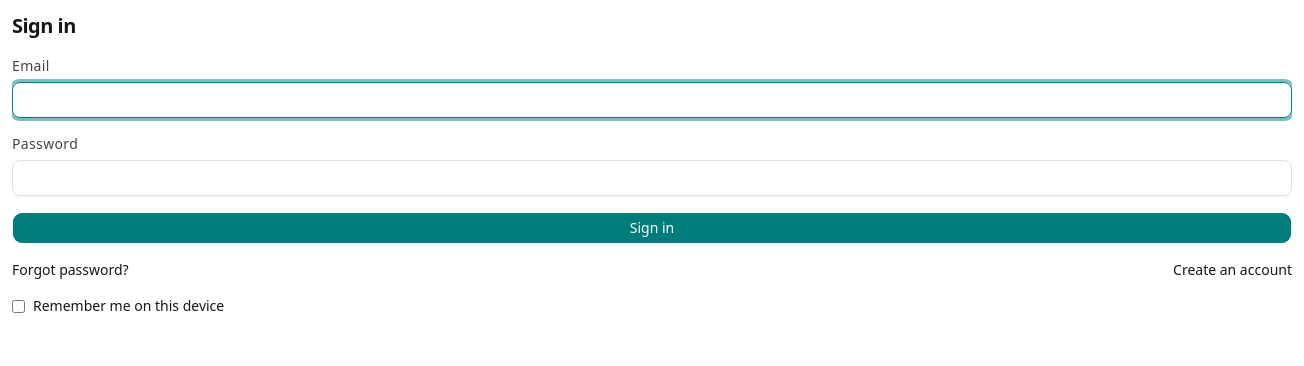
Scenario: Login page › shows inline locked-account message and does not redirect on ACCOUNT_LOCKED_OUT
In the field labelled "Email": (652, 100) left=12, top=82, right=1292, bottom=118, type "a@b.test"
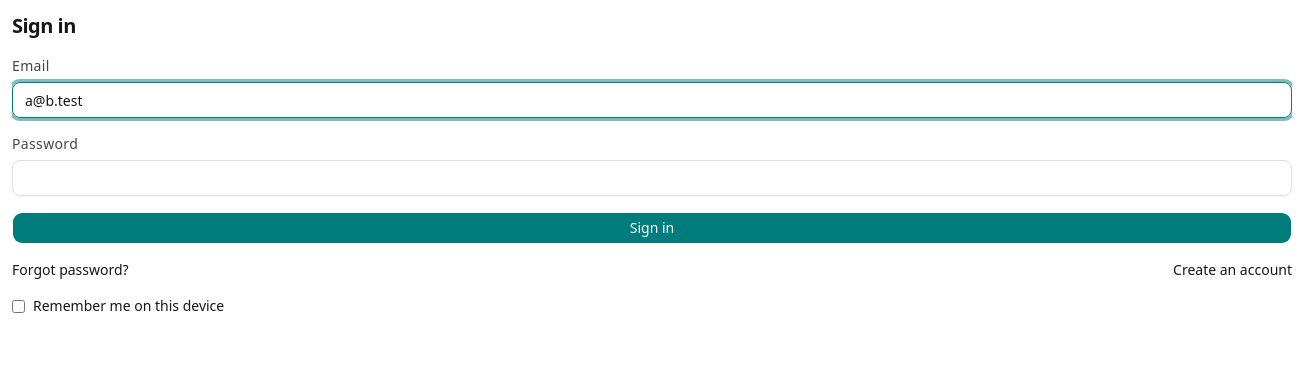
In the password field labelled "Password": (652, 178) left=12, top=160, right=1292, bottom=196, type "pw"
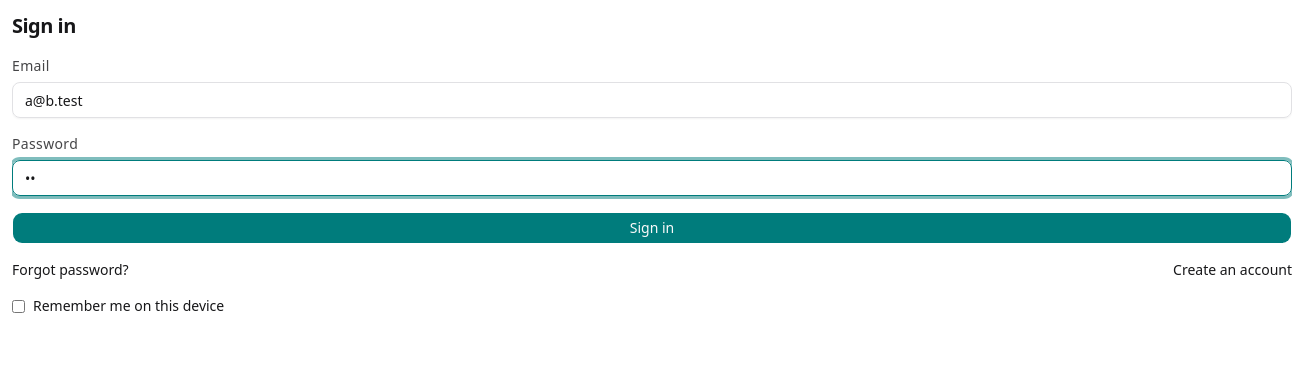
Click the button "Sign in": (652, 228) left=12, top=212, right=1292, bottom=244
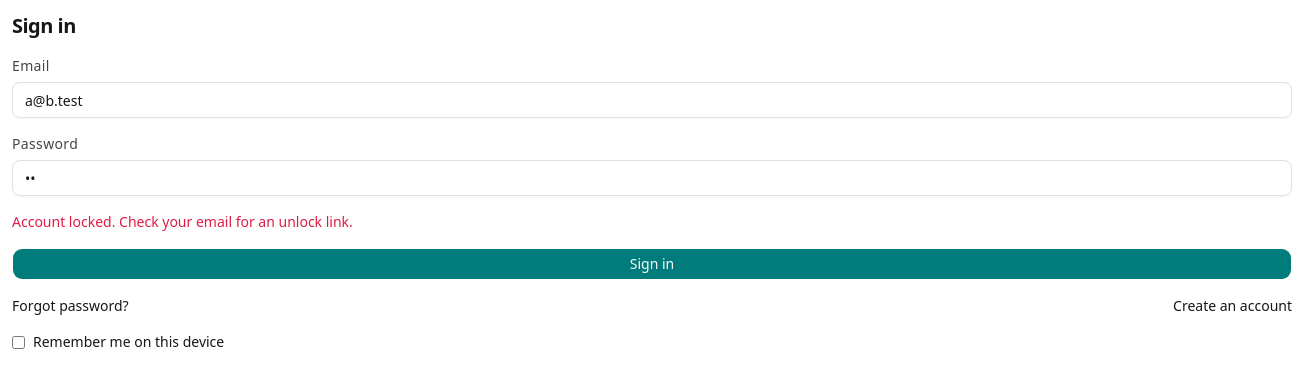
expect the text "Account locked. Check your email for an unlock link." is shown: met, box left=12, top=212, right=353, bottom=231
